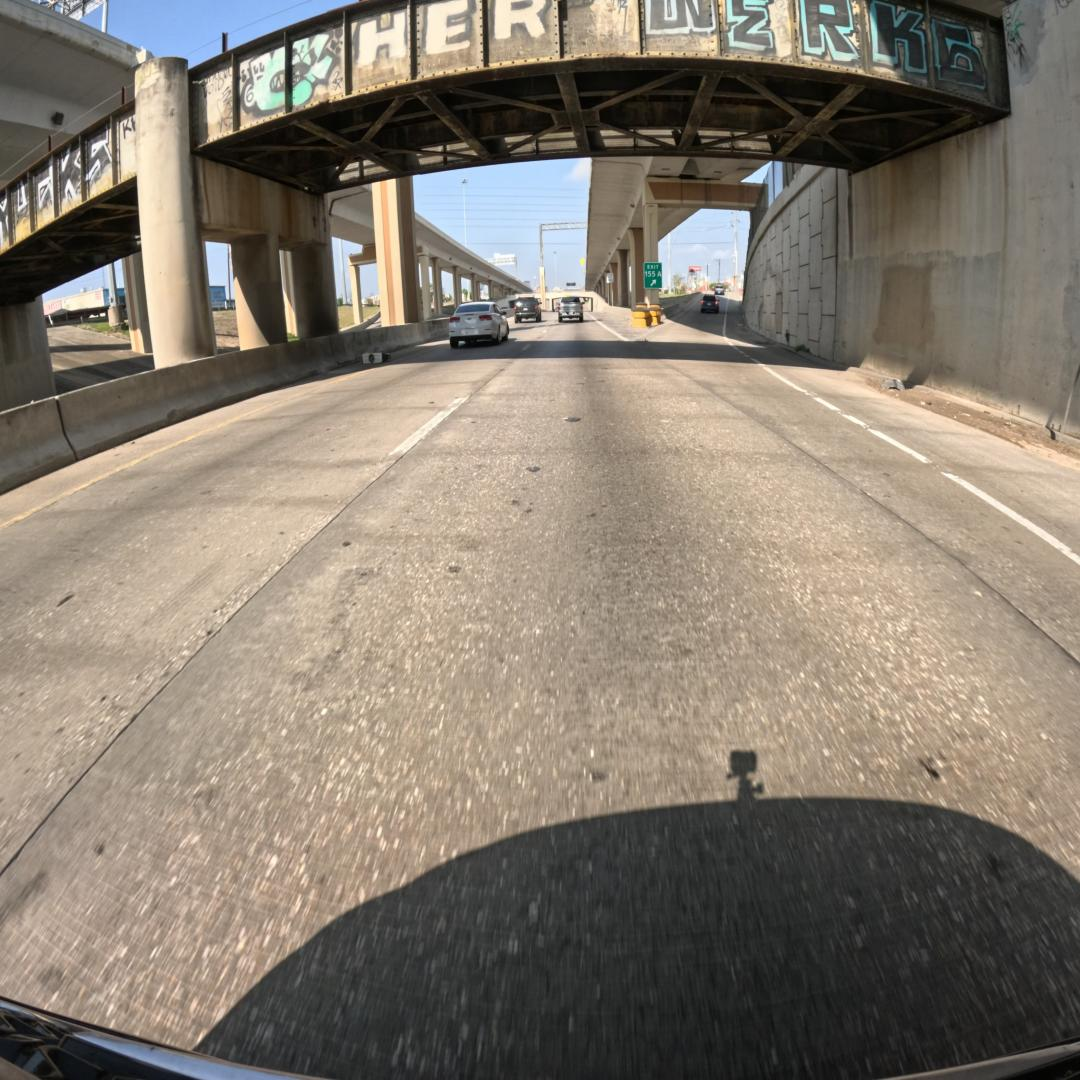lane0: (0, 324, 1080, 1080)
lane1: (0, 342, 523, 871)
